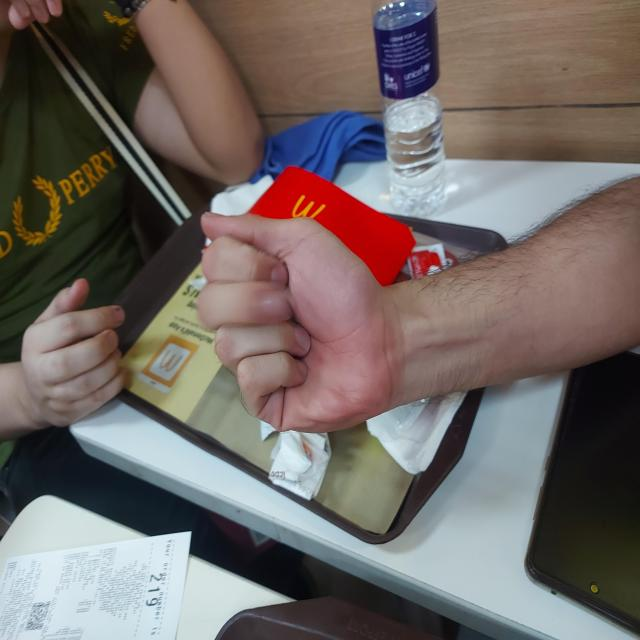A: (201, 193, 430, 394)
